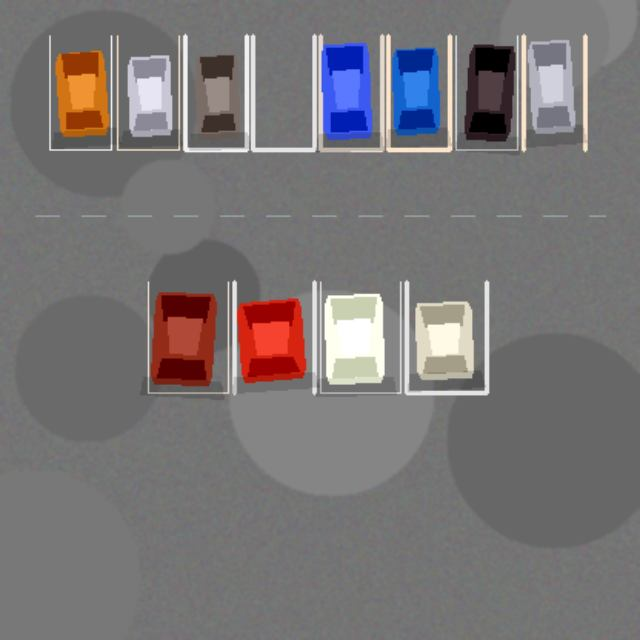space-empty: (252, 35, 314, 149)
space-occupied: (148, 282, 228, 392), (234, 282, 314, 392), (320, 282, 400, 392), (406, 282, 486, 392), (49, 35, 111, 149), (320, 35, 382, 149), (455, 35, 517, 149), (523, 35, 585, 149), (117, 35, 178, 149), (185, 35, 246, 149), (388, 35, 449, 149)
